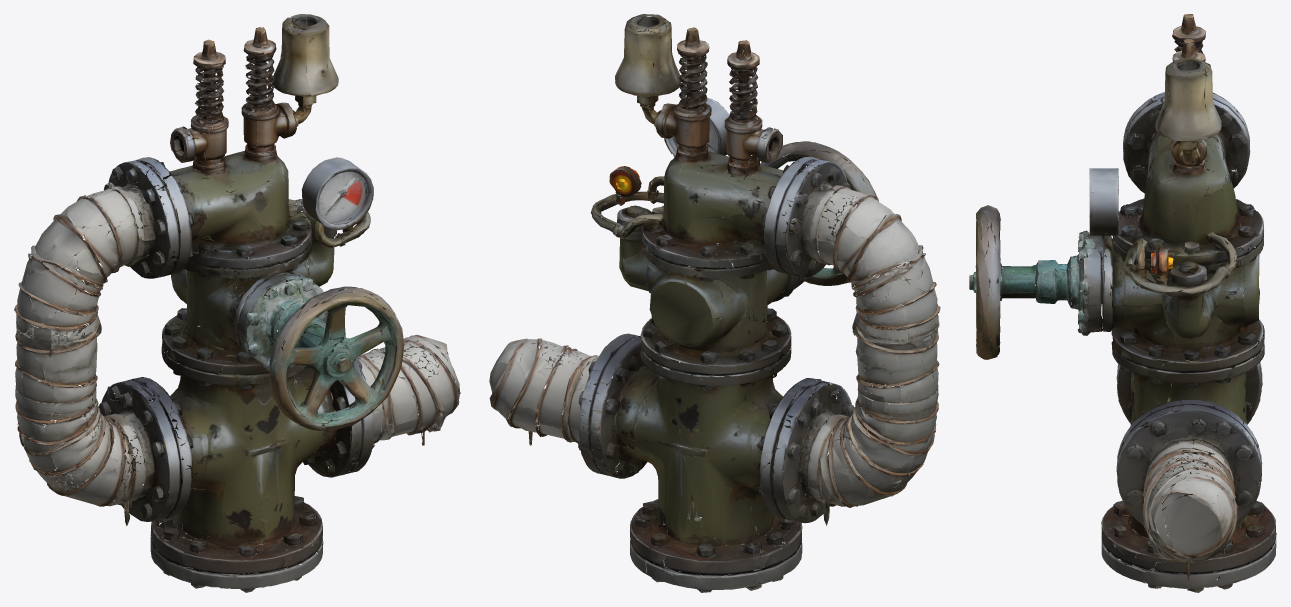
The model's file is geo_steam_manifold_actuator.glb.
3 views of the same model, side by side, from view 1: azimuth 30°, elevation 25°; view 2: azimuth 150°, elevation 25°; view 3: azimuth 270°, elevation 25° (orthographic).
Parts seen in each view (by area): view 1: node_0; view 2: node_0; view 3: node_0.
Boxes of the visible parts, bbox=[...] form: node_0: bbox=[14, 14, 460, 592]; node_0: bbox=[489, 14, 940, 592]; node_0: bbox=[969, 14, 1276, 592].
Size of the model in its own units: 0.9204 by 1.08 by 0.567.
Materials: 1 (1 with a texture image).
